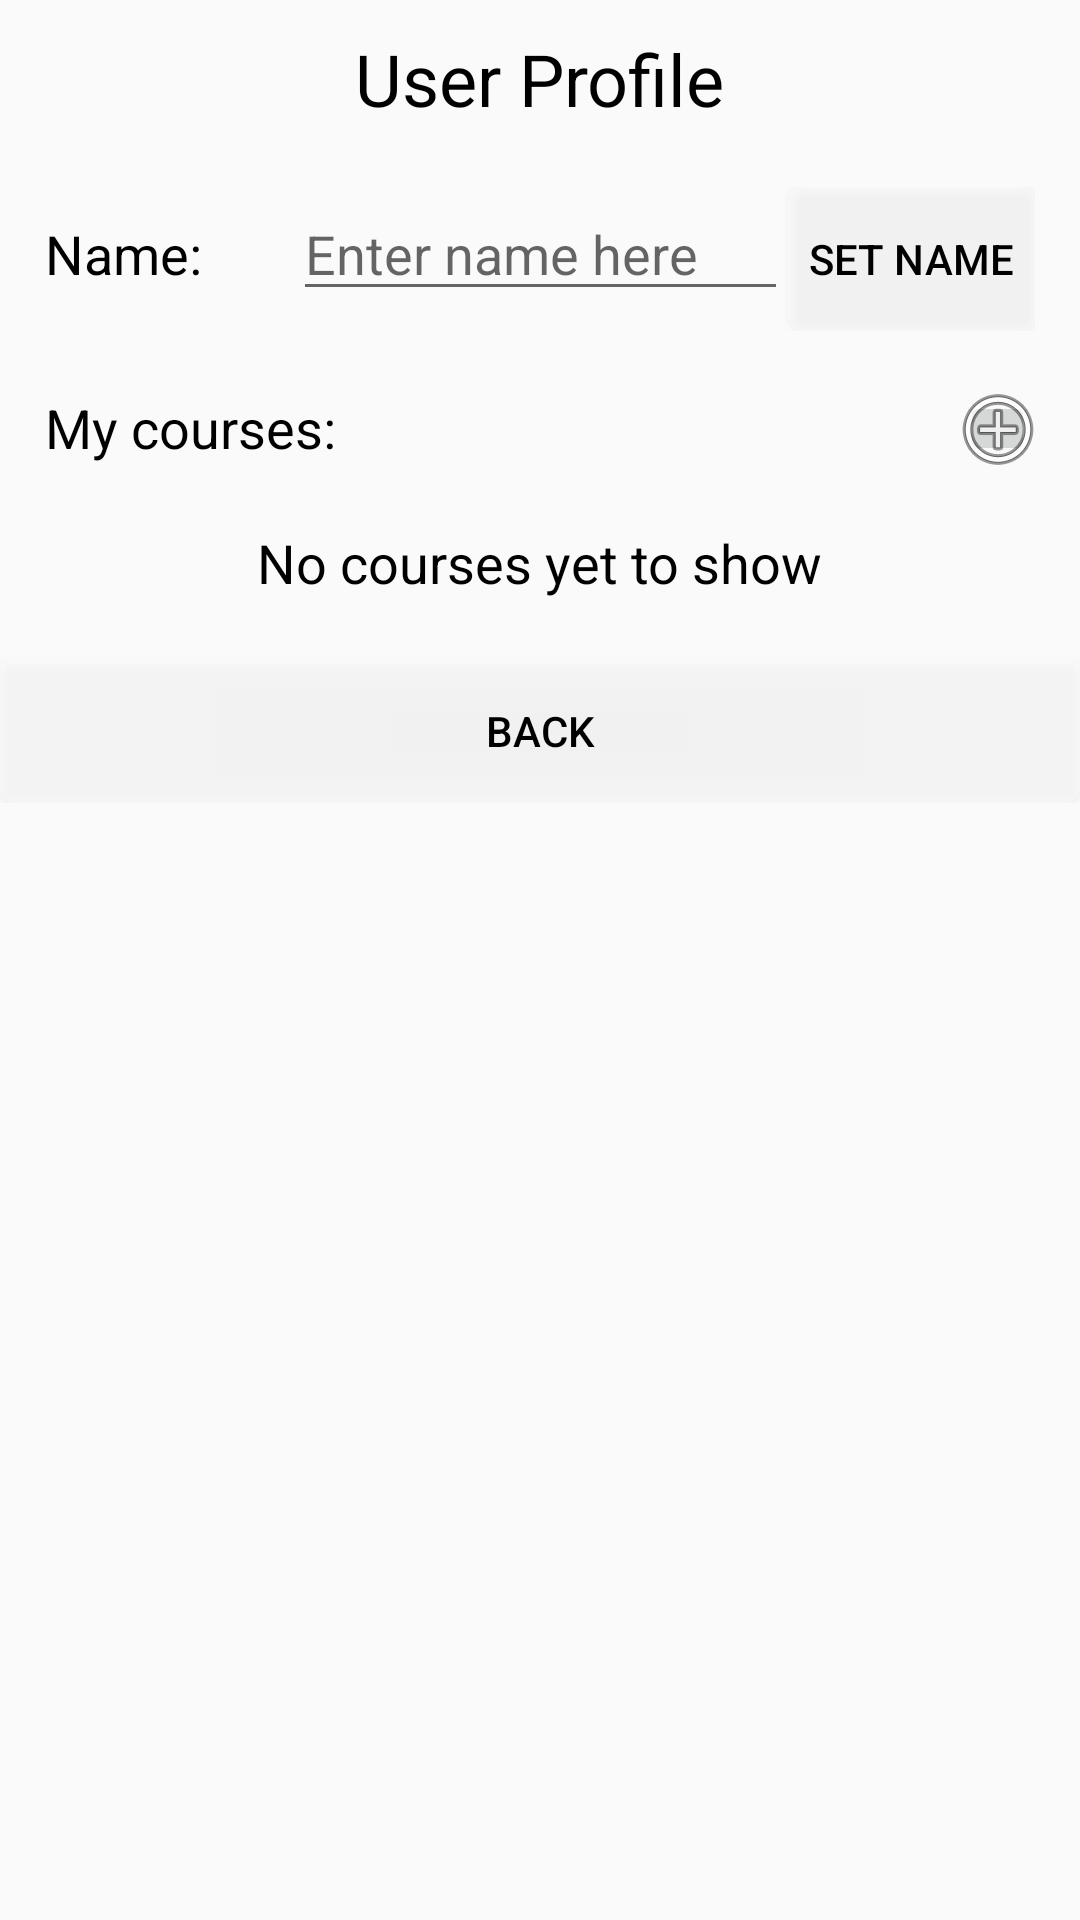

Icons on this 1080px x 1920px Android screen, each with its box as [left=x1, top=y1, right=x2, bottom=y2]:
add: [left=962, top=394, right=1034, bottom=465]
